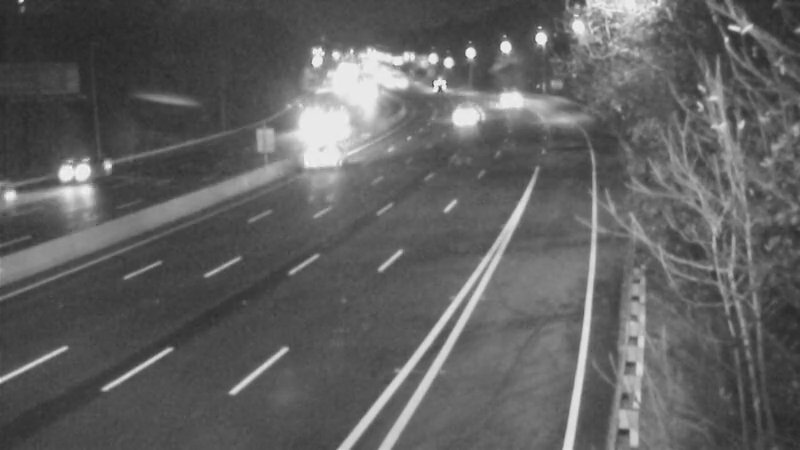vehicle: (283, 115, 363, 195), (21, 133, 101, 213), (1, 161, 67, 241), (414, 62, 464, 112), (483, 79, 533, 129), (435, 87, 485, 137)
